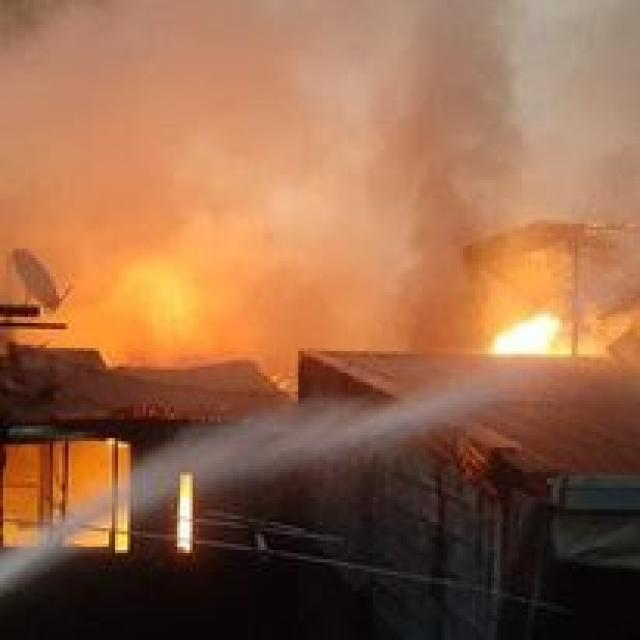Fire: (78, 256, 218, 386), (3, 439, 139, 566), (473, 279, 582, 372)
